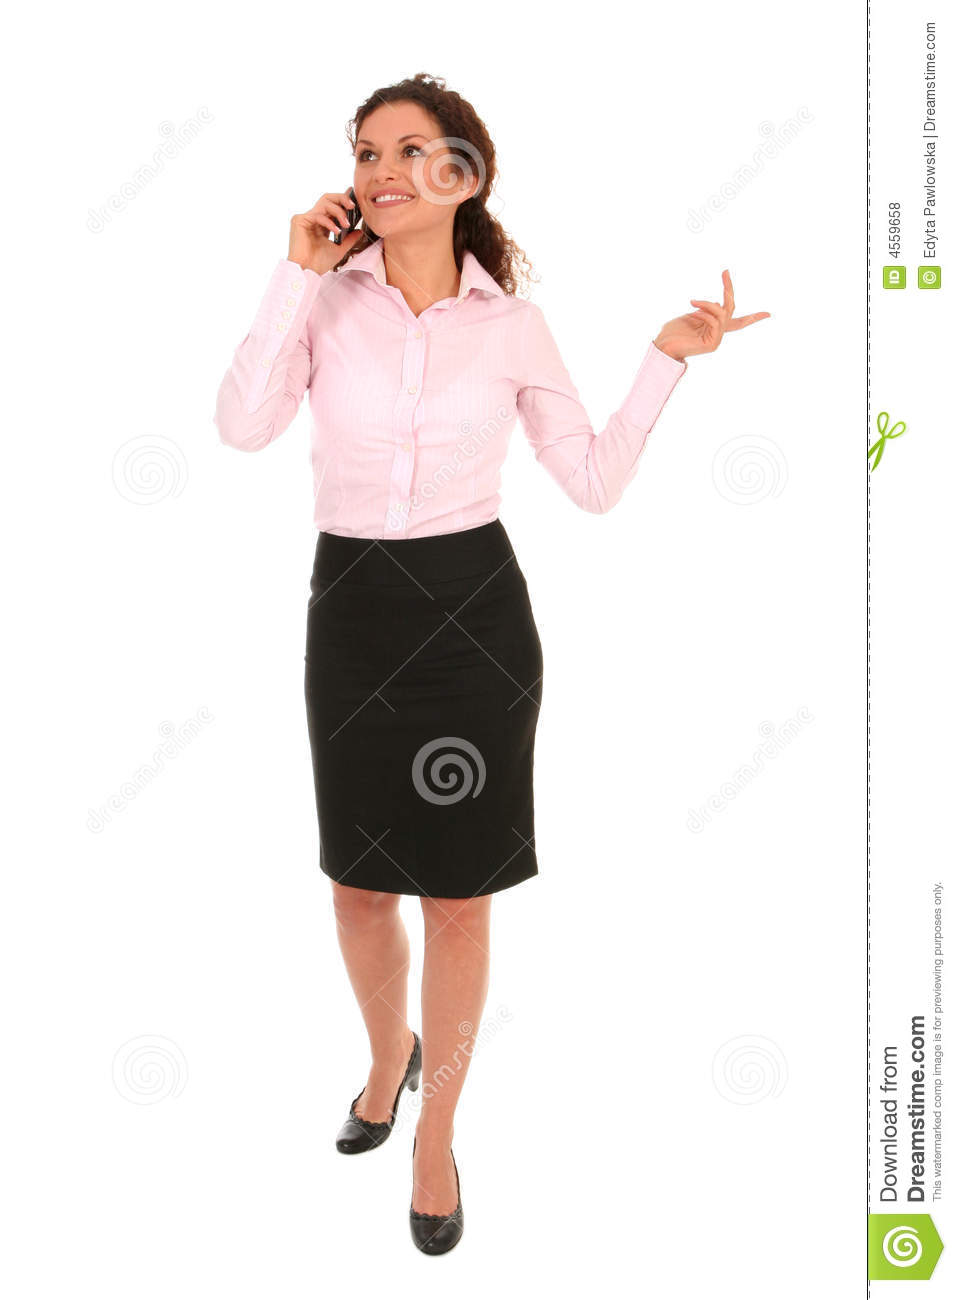talk: (283, 120, 445, 266)
